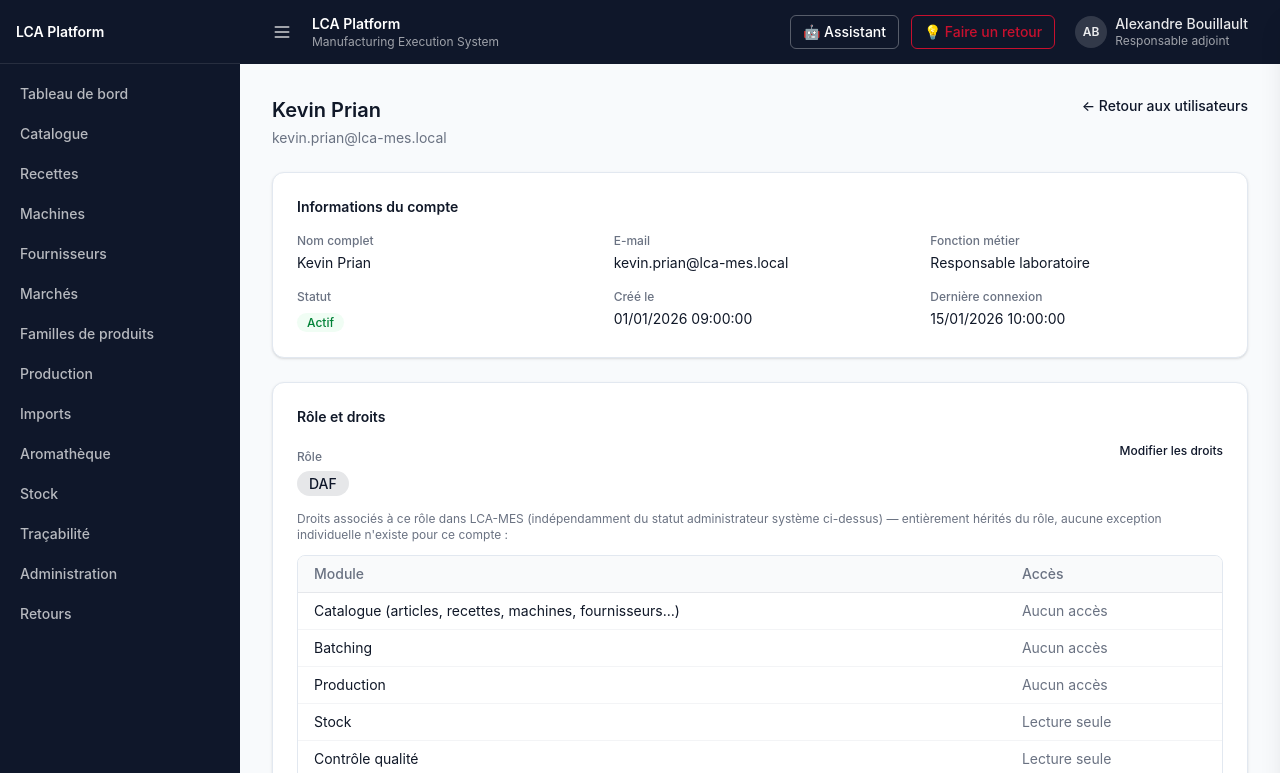
Test case: UserDetailPage › modification des droits › enregistre les modifications, affiche un message de succès et rafraîchit la fiche et l’historique
Click the button "Modifier les droits" at (1171, 451), box [1120, 443, 1223, 459]
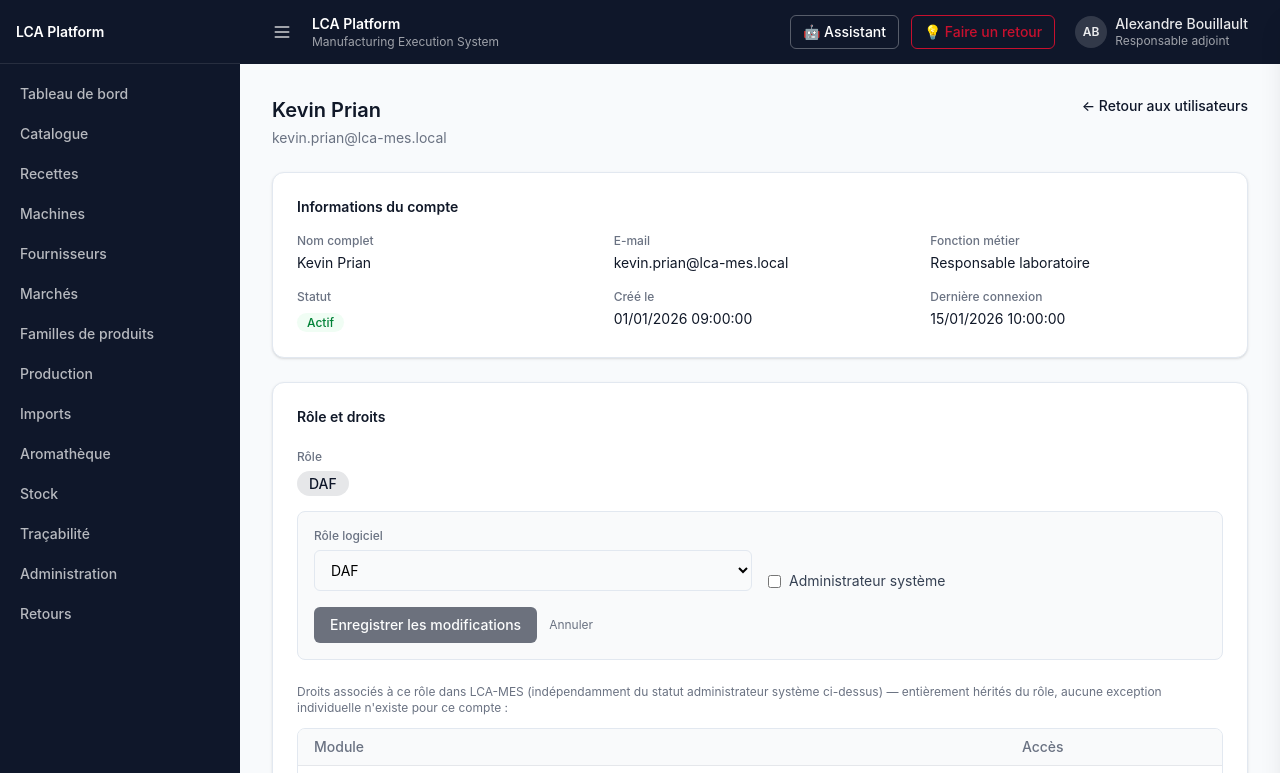
Select "Responsable adjoint" in the dropdown labelled "Rôle logiciel" at (533, 570), box [314, 550, 752, 591]
(page scrolled)
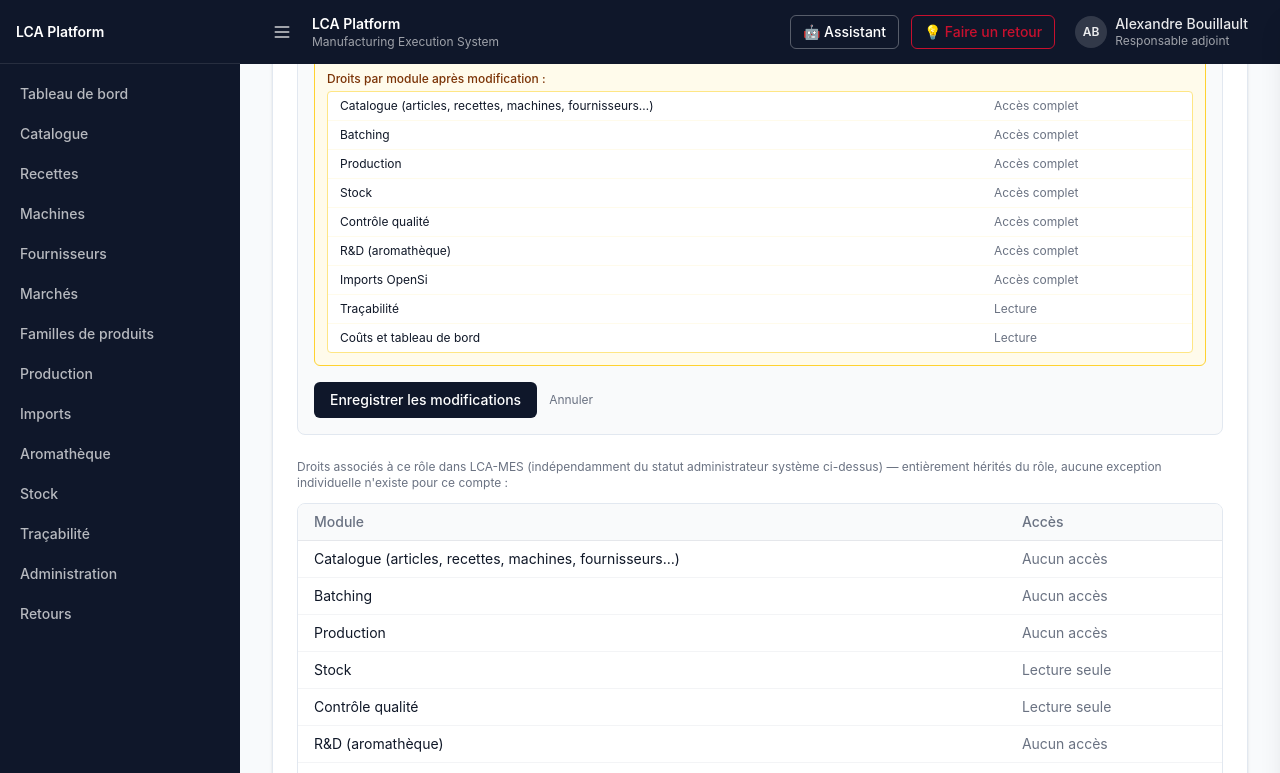
Click the button "Enregistrer les modifications" at (426, 400), box [314, 382, 537, 418]
(page scrolled)
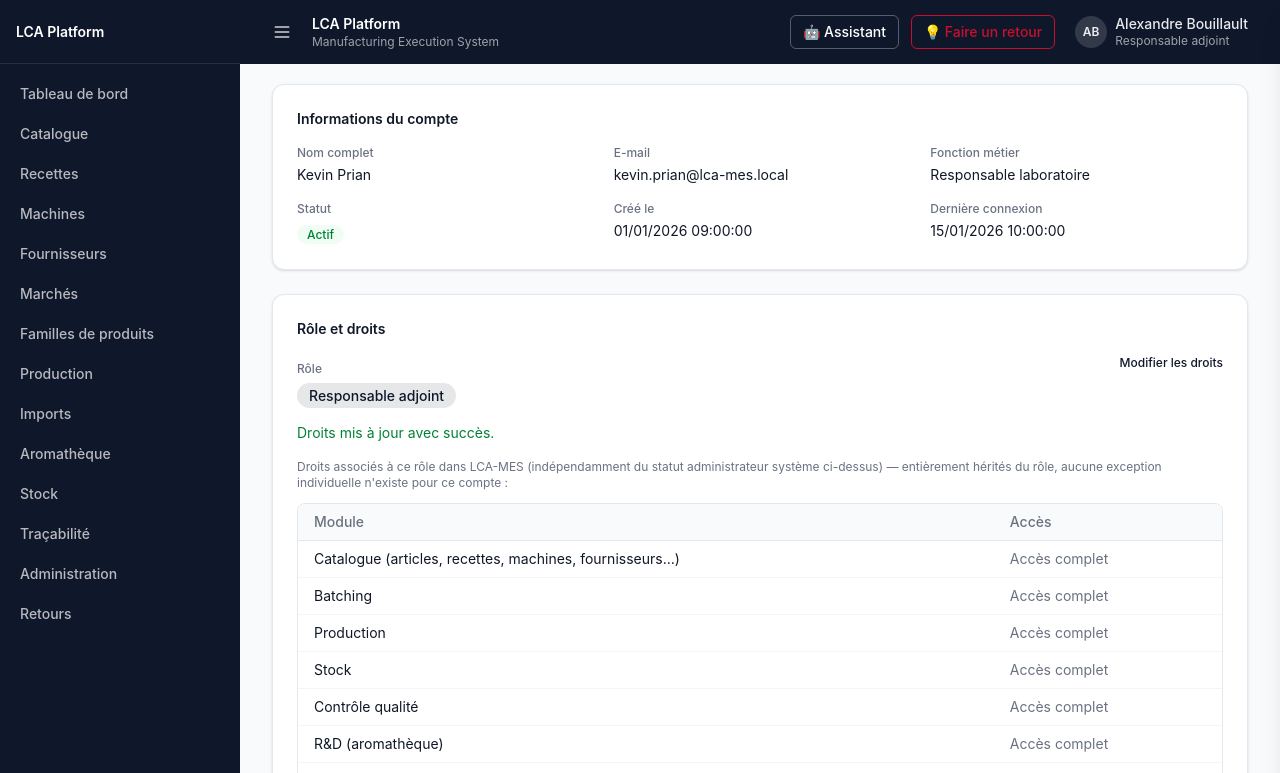
Now the text "Droits mis à jour avec succès." is shown, box [297, 424, 494, 441]
Now the text with test id "role-badge" reads "Responsable adjoint", box [309, 387, 444, 404]
